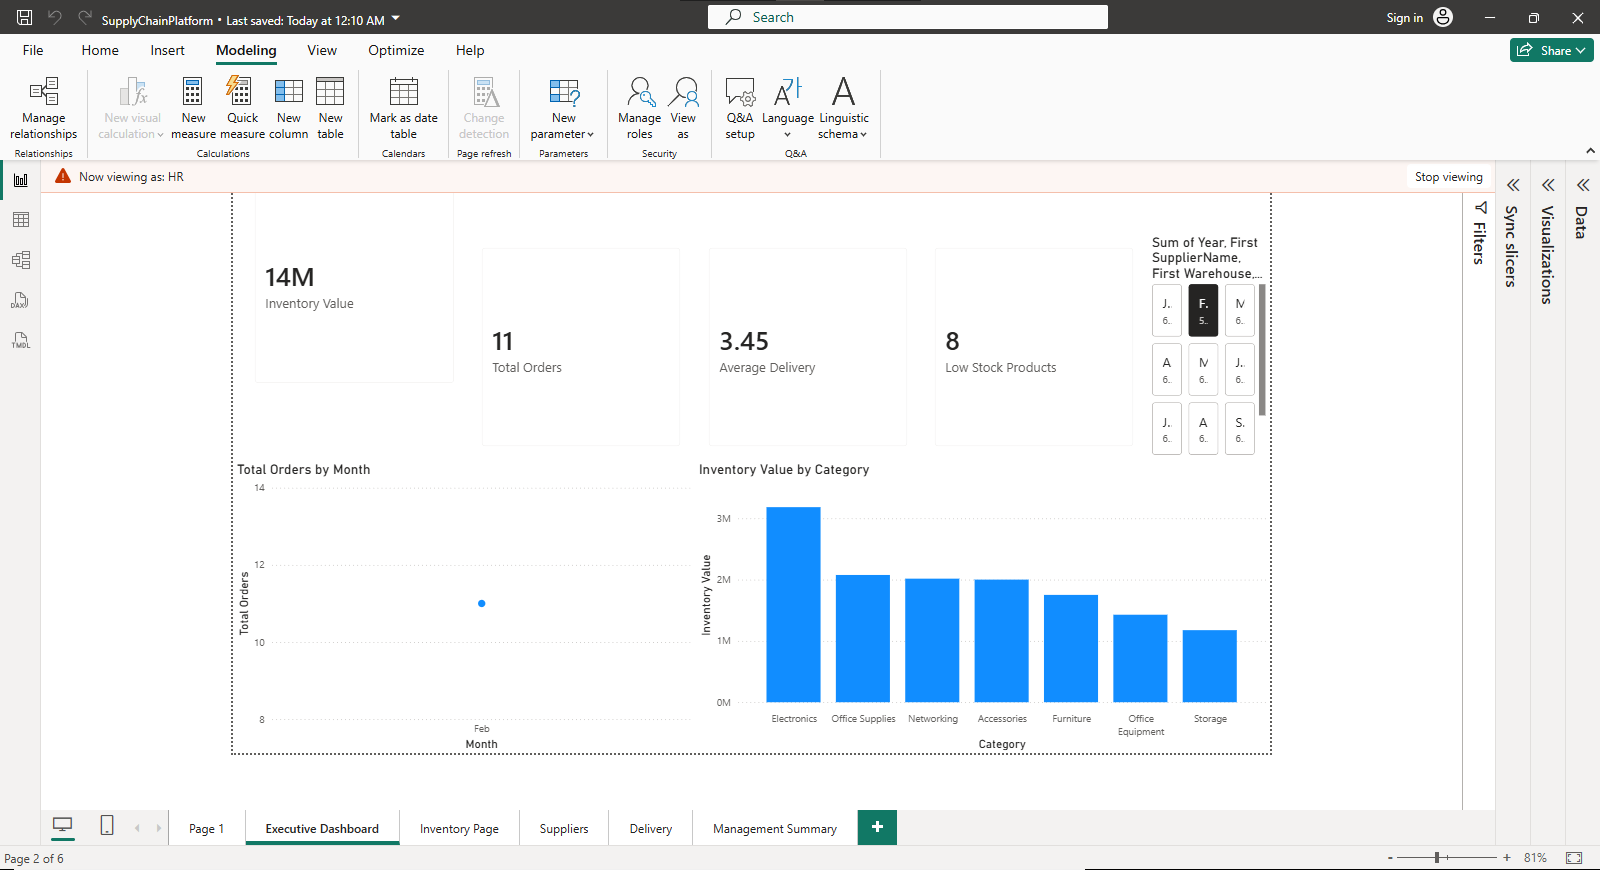

The page's visual inventory and layout, read from the dashboard file:
{"tool":"powerbi","page":{"name":"Executive Dashboard","canvas":[1280,720],"ordinal":1},"visuals":[{"type":"cardVisual","fields":{"Data":["Orders.Inventory Value"]},"box":[10,0,280,280],"z":0},{"type":"cardVisual","fields":{"Data":["Orders.Total Orders"]},"box":[290.5,79.5,279.6,279.6],"z":1},{"type":"cardVisual","fields":{"Data":["Orders.Average Delivery"]},"box":[570.1,79.5,279.6,279.6],"z":2},{"type":"cardVisual","fields":{"Data":["Orders.Low Stock Products"]},"box":[849.7,79.5,279.6,279.6],"z":3},{"type":"lineChart","fields":{"Category":["Calendar.Month"],"Y":["Orders.Total Orders"]},"box":[0,359.1,570.1,361.8],"z":4},{"type":"clusteredColumnChart","fields":{"Category":["Inventory.Category"],"Y":["Orders.Inventory Value"]},"box":[570.1,359.1,709.9,361.8],"z":5},{"type":"advancedSlicerVisual","fields":{"Label":["Sum(Calendar.Year)"],"Values":["Calendar.Month"]},"box":[1130,79,150,280],"z":6}]}

Visuals, with their boxes on the page's 1280x720 design canvas (x1, y1, x2, y2). These are canvas units, not pixel positions in the 1600x870 screenshot, which may show the page scaled, cropped or inside an application window:
cardVisual - Orders.Inventory Value: bbox(10, 0, 290, 280)
cardVisual - Orders.Total Orders: bbox(290, 80, 570, 359)
cardVisual - Orders.Average Delivery: bbox(570, 80, 850, 359)
cardVisual - Orders.Low Stock Products: bbox(850, 80, 1129, 359)
lineChart - Calendar.Month x Orders.Total Orders: bbox(0, 359, 570, 721)
clusteredColumnChart - Inventory.Category x Orders.Inventory Value: bbox(570, 359, 1280, 721)
advancedSlicerVisual - Sum(Calendar.Year) x Calendar.Month: bbox(1130, 79, 1280, 359)
